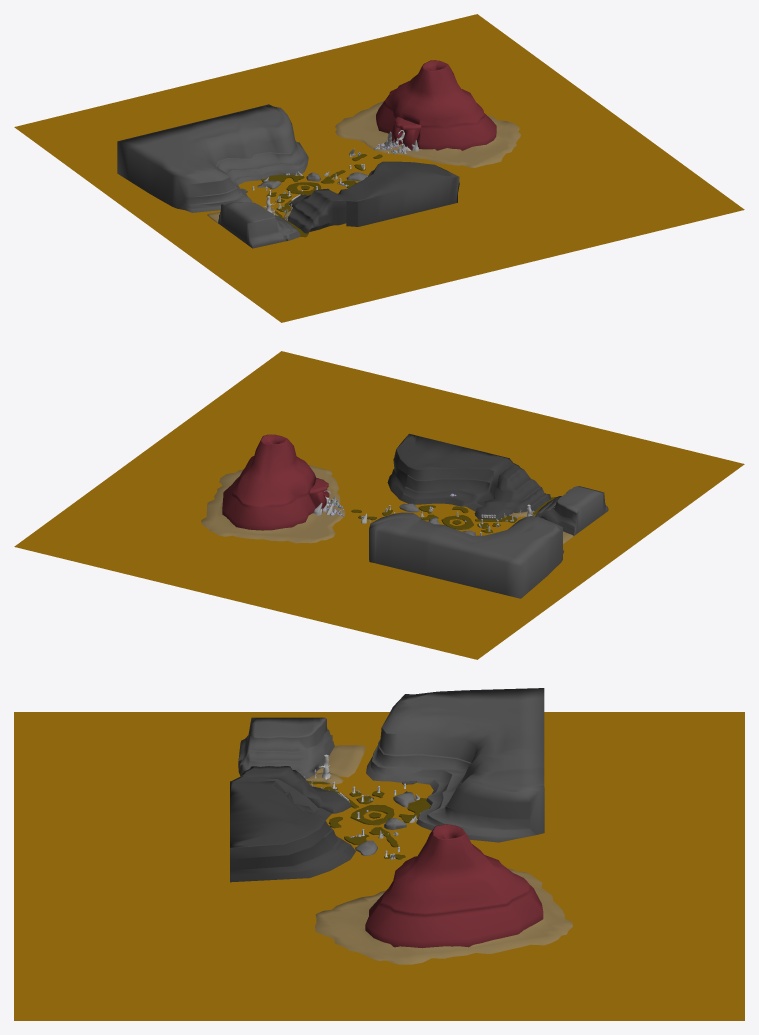
Rendered from LavaLevelGoodlyPivoted.fbx.
3 views of the same model, one above another, from view 1: azimuth 30°, elevation 25°; view 2: azimuth 150°, elevation 25°; view 3: azimuth 270°, elevation 25° (orthographic). The views are drawn at different scales.
Visible parts, largest first — view 1: lava, mountain_7, volcano, mountain_5, volcano_plane, mountain_3, mountain_6; view 2: lava, mountain_7, mountain_5, volcano, volcano_plane, mountain_6, mountain_3; view 3: lava, mountain_7, volcano, mountain_5, volcano_plane, mountain_3, mountain_6, arid_plane_3.
Boxes of the visible parts, bbox=[...] form: lava: bbox=[14, 14, 744, 322]; mountain_7: bbox=[117, 104, 308, 212]; volcano: bbox=[376, 60, 496, 150]; mountain_5: bbox=[337, 161, 459, 226]; volcano_plane: bbox=[335, 101, 521, 167]; mountain_3: bbox=[218, 202, 300, 248]; mountain_6: bbox=[287, 188, 346, 233]; lava: bbox=[14, 351, 744, 659]; mountain_7: bbox=[369, 512, 563, 598]; mountain_5: bbox=[387, 434, 513, 511]; volcano: bbox=[222, 434, 316, 530]; volcano_plane: bbox=[201, 465, 345, 543]; mountain_6: bbox=[474, 463, 550, 519]; mountain_3: bbox=[535, 486, 608, 536]; lava: bbox=[14, 712, 744, 1020]; mountain_7: bbox=[366, 688, 544, 842]; volcano: bbox=[365, 824, 543, 948]; mountain_5: bbox=[230, 776, 355, 882]; volcano_plane: bbox=[315, 868, 572, 964]; mountain_3: bbox=[238, 717, 334, 778]; mountain_6: bbox=[241, 766, 351, 813]; arid_plane_3: bbox=[316, 745, 365, 777].
Size of the model in its own units: 329 by 48.36 by 329.
